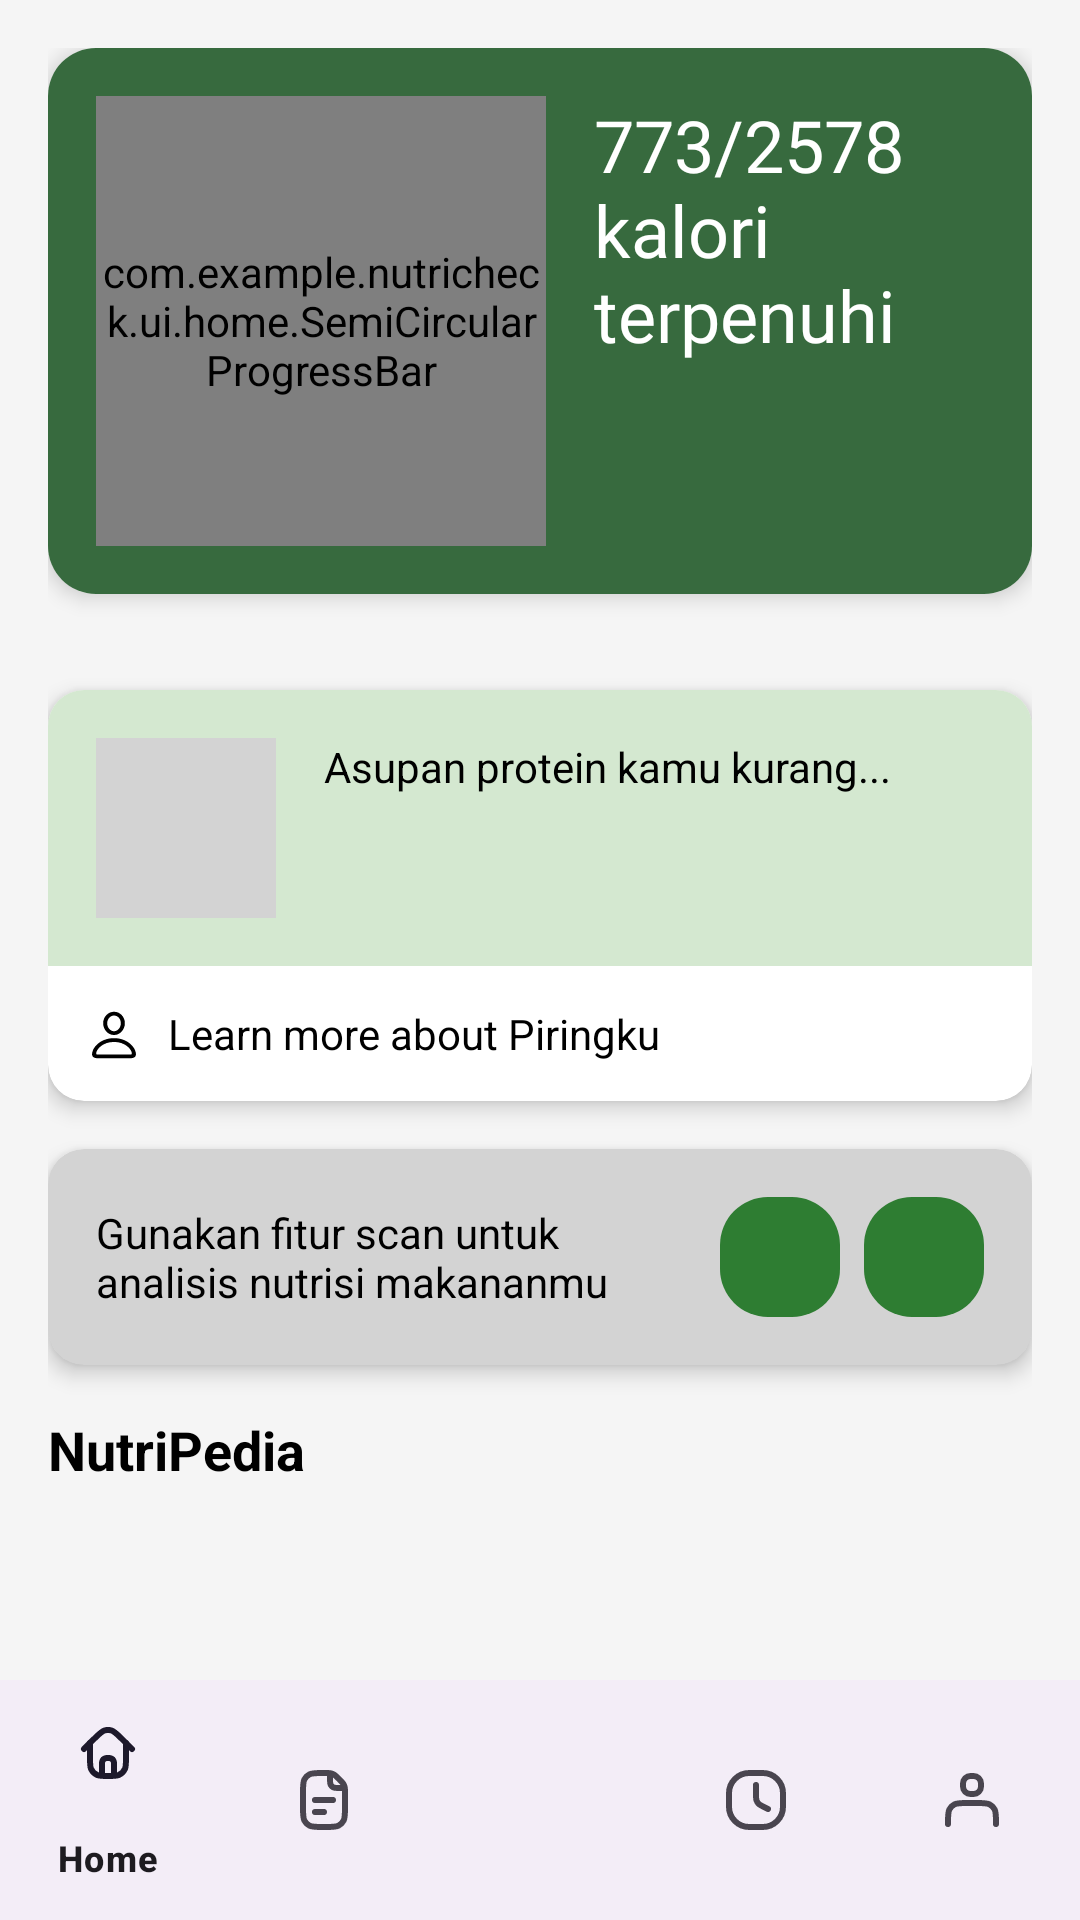

Where to tap for icons on this 1080px×1920px app screen, as point (x, y):
person: point (114, 1035)
